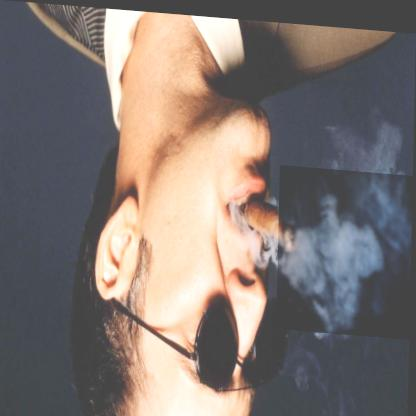smoke: (278, 160, 414, 333)
